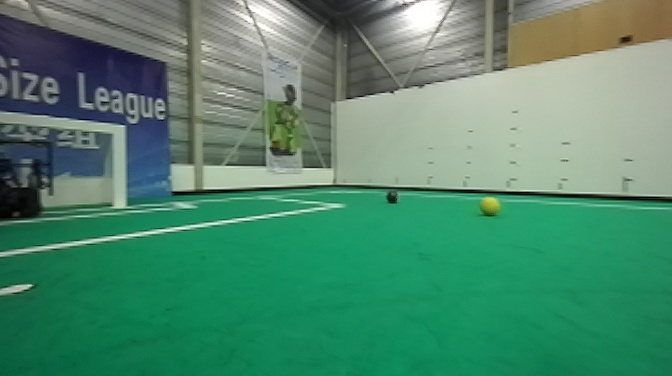ball: (477, 195, 500, 221), (384, 187, 404, 208)
goal: (1, 110, 132, 213)
goalpost: (107, 121, 130, 211)
robot: (1, 136, 61, 221)
